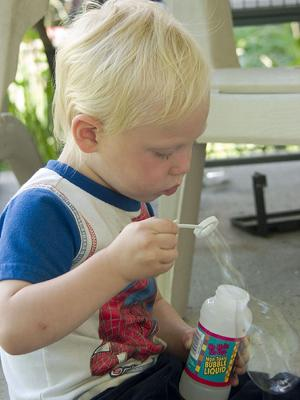person: (3, 6, 300, 400)
